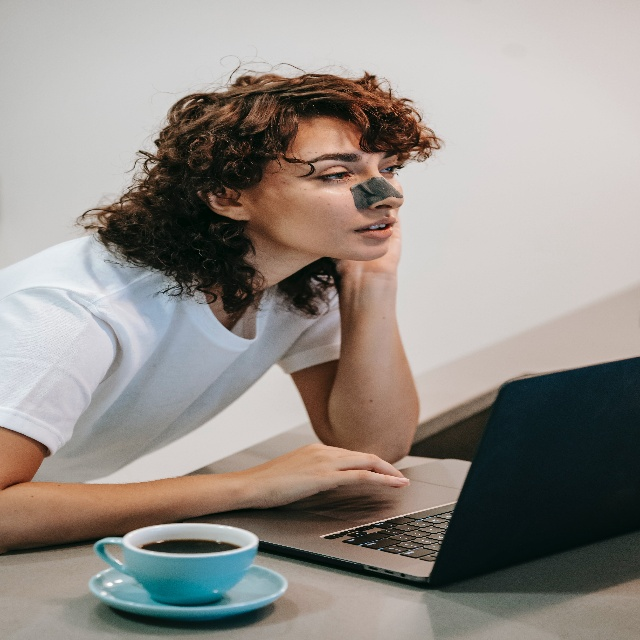Sin_guantes: (250, 443, 411, 509)
